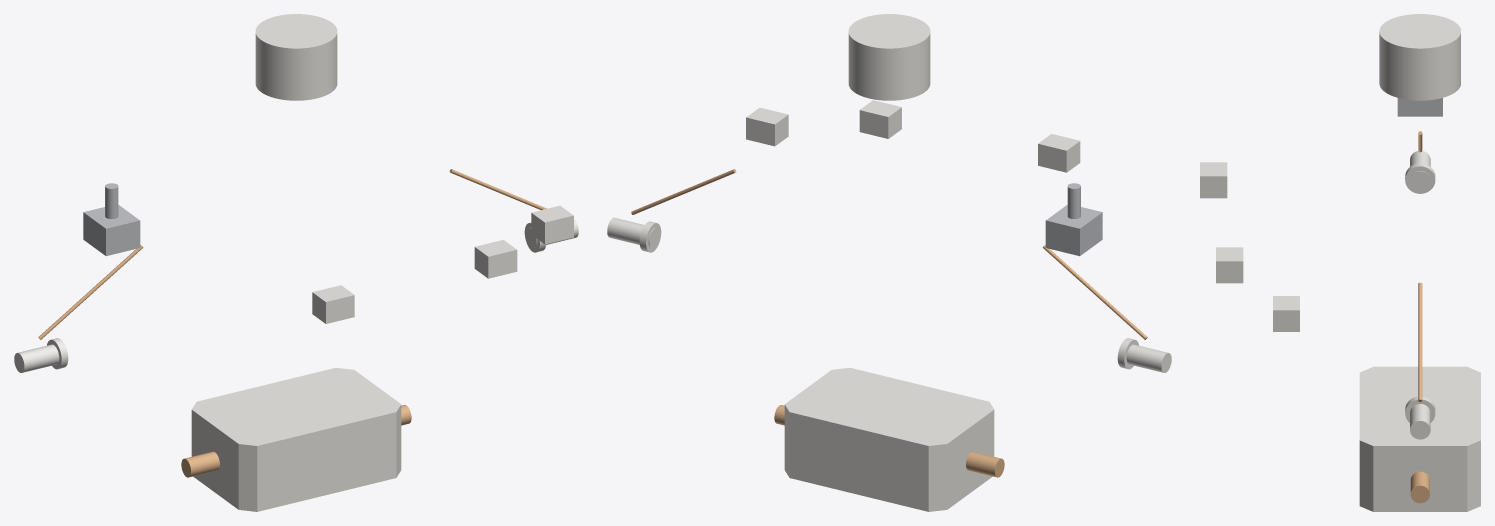
File: exploded.glb
3 views of the same model, side by side, from view 1: azimuth 30°, elevation 25°; view 2: azimuth 150°, elevation 25°; view 3: azimuth 270°, elevation 25° (orthographic).
Parts seen in each view (by area): view 1: device_body, chamber, valve_stage, module_02, module_01, module_03, inlet_port, flow_channel; view 2: device_body, chamber, valve_stage, module_02, module_01, module_03, outlet_port, inlet_port, flow_channel; view 3: device_body, chamber, module_02, module_03, inlet_port, outlet_port, module_01, valve_stage, link_chamber__outlet_port, flow_channel.
Part boxes in pixels (box(x1,y1,x2,y2)): device_body: box(191, 367, 401, 511); chamber: box(255, 14, 337, 100); valve_stage: box(83, 183, 140, 256); module_02: box(474, 240, 517, 278); module_01: box(531, 205, 573, 244); module_03: box(312, 285, 354, 323); inlet_port: box(14, 338, 68, 372); flow_channel: box(181, 405, 411, 477); device_body: box(784, 367, 994, 511); chamber: box(848, 14, 930, 100); valve_stage: box(1045, 183, 1102, 256); module_02: box(859, 100, 901, 138); module_01: box(746, 107, 788, 146); module_03: box(1038, 134, 1080, 172); outlet_port: box(607, 217, 661, 252); inlet_port: box(1117, 338, 1171, 372); flow_channel: box(774, 405, 1004, 477); device_body: box(1359, 366, 1480, 511); chamber: box(1379, 14, 1460, 100); module_02: box(1216, 247, 1243, 283); module_03: box(1200, 162, 1227, 198); inlet_port: box(1405, 151, 1435, 193); outlet_port: box(1405, 396, 1435, 439); module_01: box(1273, 296, 1299, 331); valve_stage: box(1397, 98, 1442, 116); link_chamber__outlet_port: box(1418, 282, 1422, 401); flow_channel: box(1410, 471, 1429, 503).
Bounding box in the file's own units: 11.23 × 8.55 × 4.93.
